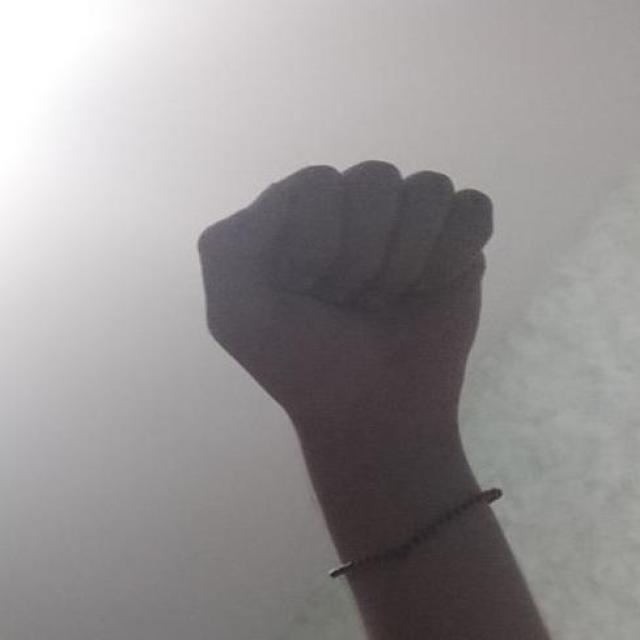hand: (195, 158, 495, 470)
